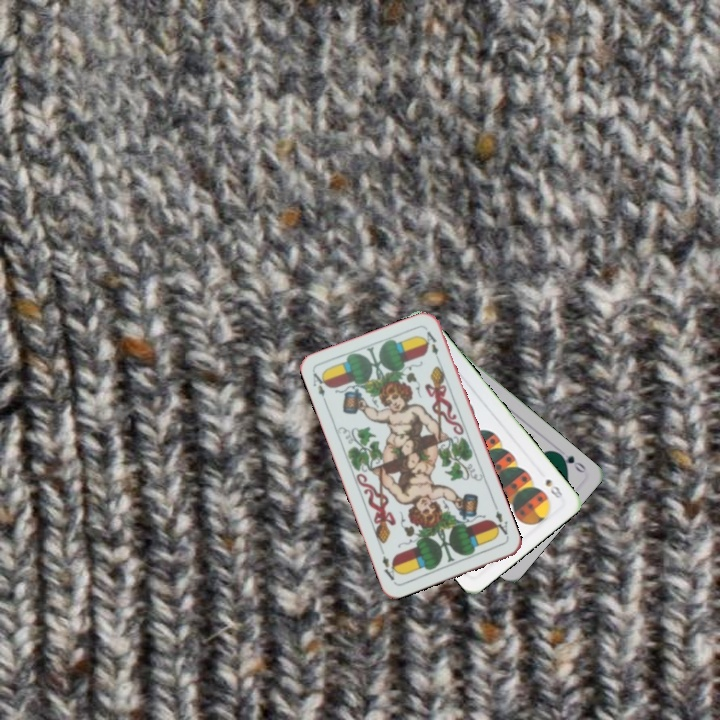EA: (309, 368, 331, 407), (489, 507, 511, 540)
GO: (553, 448, 589, 475)
S8: (541, 475, 566, 501)
